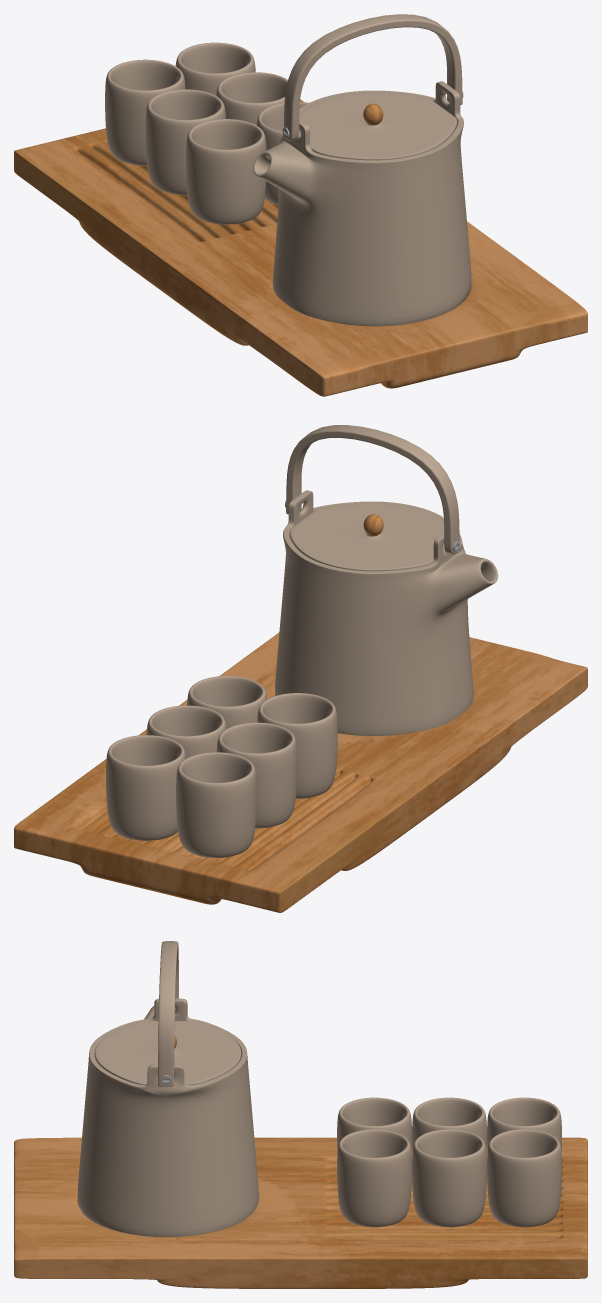
File: teapot.glb
3 views of the same model, one above another, from view 1: azimuth 30°, elevation 25°; view 2: azimuth 150°, elevation 25°; view 3: azimuth 270°, elevation 25° (orthographic). The views are drawn at different scales.
Visible parts, largest first — view 1: Tray, Kettle, Cups, Lid.001; view 2: Tray, Kettle, Cups, Lid.001; view 3: Tray, Kettle, Cups, Lid.001.
Boxes of the visible parts, x1,y1,x2,y2 form: Tray: (14, 99, 587, 396); Kettle: (253, 14, 471, 326); Cups: (105, 42, 308, 224); Lid.001: (299, 92, 457, 160); Tray: (14, 632, 587, 912); Kettle: (275, 425, 498, 735); Cups: (106, 676, 337, 857); Lid.001: (290, 503, 444, 571); Tray: (14, 1137, 587, 1288); Kettle: (77, 941, 258, 1236); Cups: (337, 1097, 561, 1227); Lid.001: (95, 1021, 241, 1084).
Size of the model in its own units: 0.25 by 0.2632 by 0.5.
Materials: 6 (5 with a texture image).
